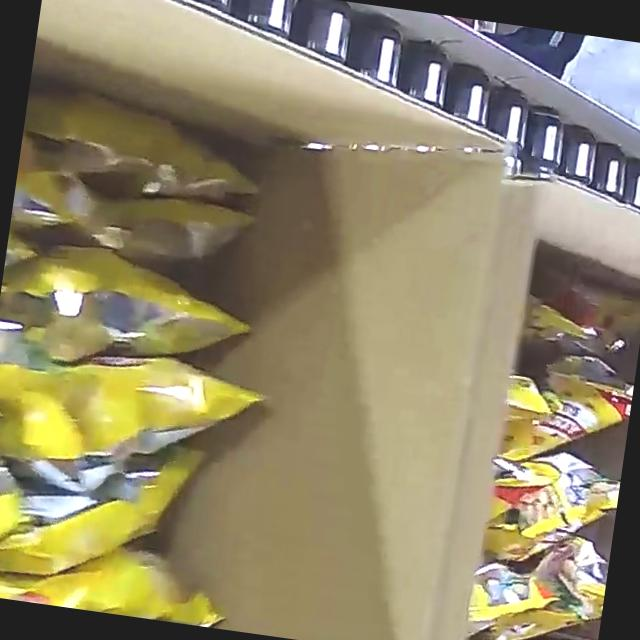salted: (0, 45, 313, 631), (426, 244, 640, 640)
